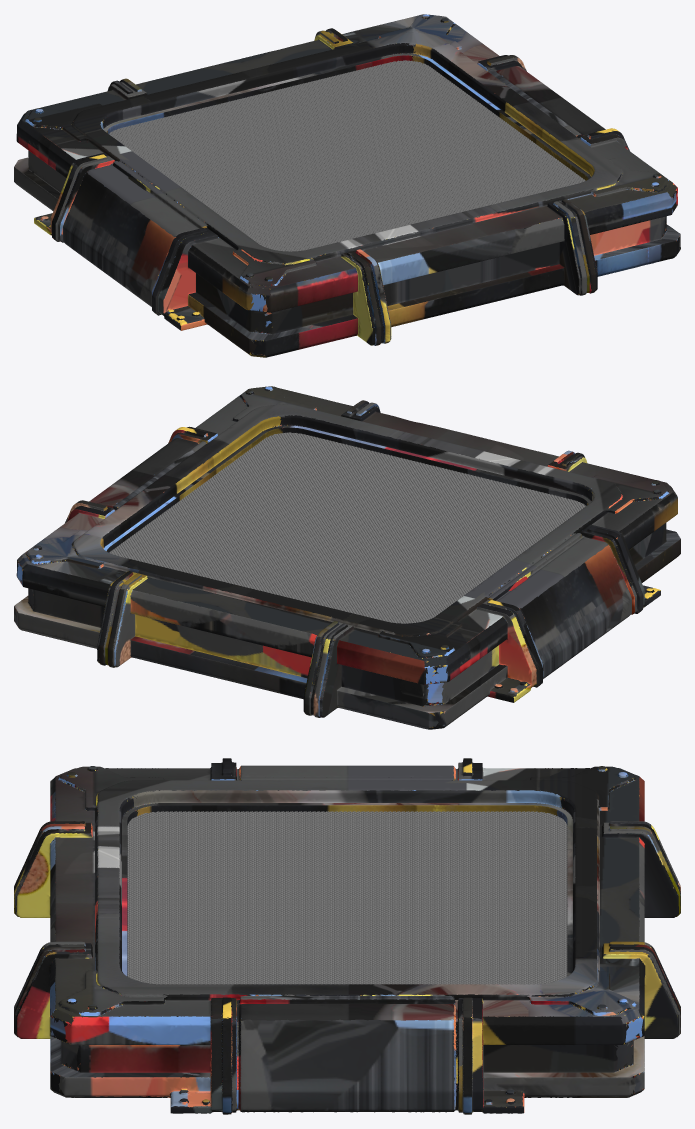
File: air_conditioning_RE.fbx
The picture shows the model from 3 angles, top to bottom: view 1: azimuth 30°, elevation 25°; view 2: azimuth 150°, elevation 25°; view 3: azimuth 270°, elevation 25°; orthographic projection. The views are drawn at different scales.
Visible parts, largest first — view 1: Mesh_0, Plane; view 2: Mesh_0, Plane; view 3: Mesh_0, Plane.
Boxes of the visible parts, x1,y1,x2,y2 form: Mesh_0: (14,14,680,357); Plane: (109,60,585,251); Mesh_0: (14,386,680,729); Plane: (109,432,585,623); Mesh_0: (14,758,680,1114); Plane: (127,811,567,984).
Size of the model in its own units: 200 by 28.86 by 197.
